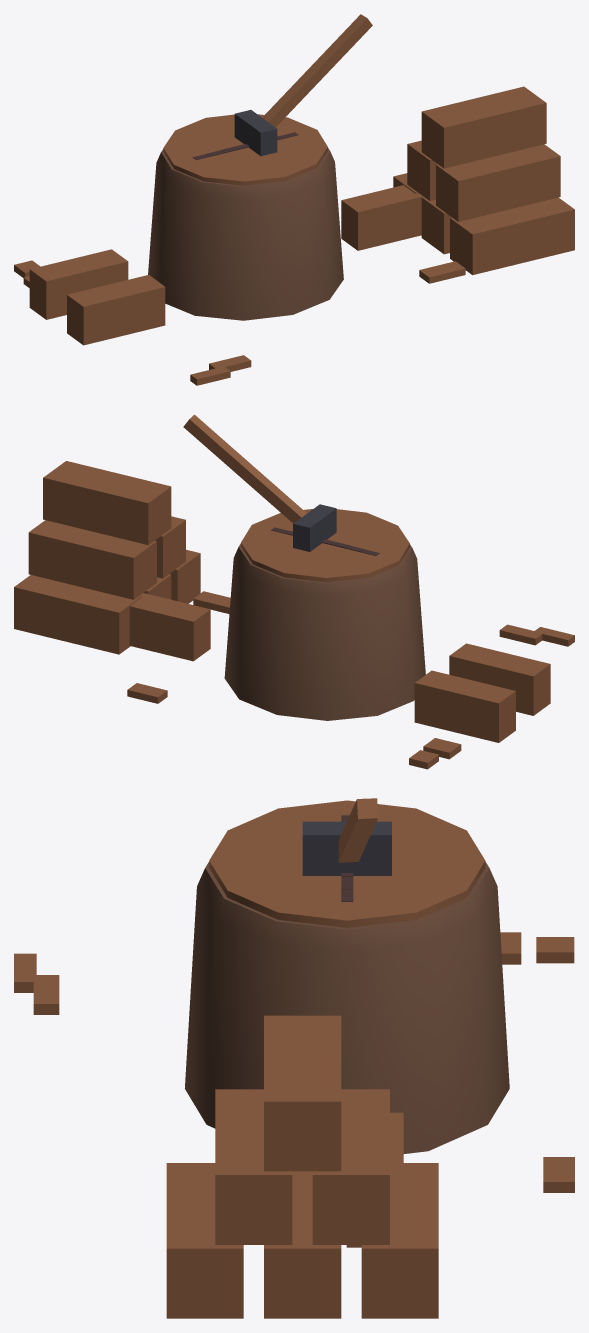
The model's file is chopping_block.glb.
The picture shows the model from 3 angles, top to bottom: view 1: azimuth 30°, elevation 25°; view 2: azimuth 150°, elevation 25°; view 3: azimuth 270°, elevation 25°; orthographic projection. The views are drawn at different scales.
Parts seen in each view (by area): view 1: block; view 2: block; view 3: block.
Part boxes in pixels (bbox=[...]): block: bbox=[14, 14, 574, 385]; block: bbox=[14, 414, 574, 769]; block: bbox=[14, 798, 574, 1318].
Size of the model in its own units: 2.29 by 1.07 by 1.38.
